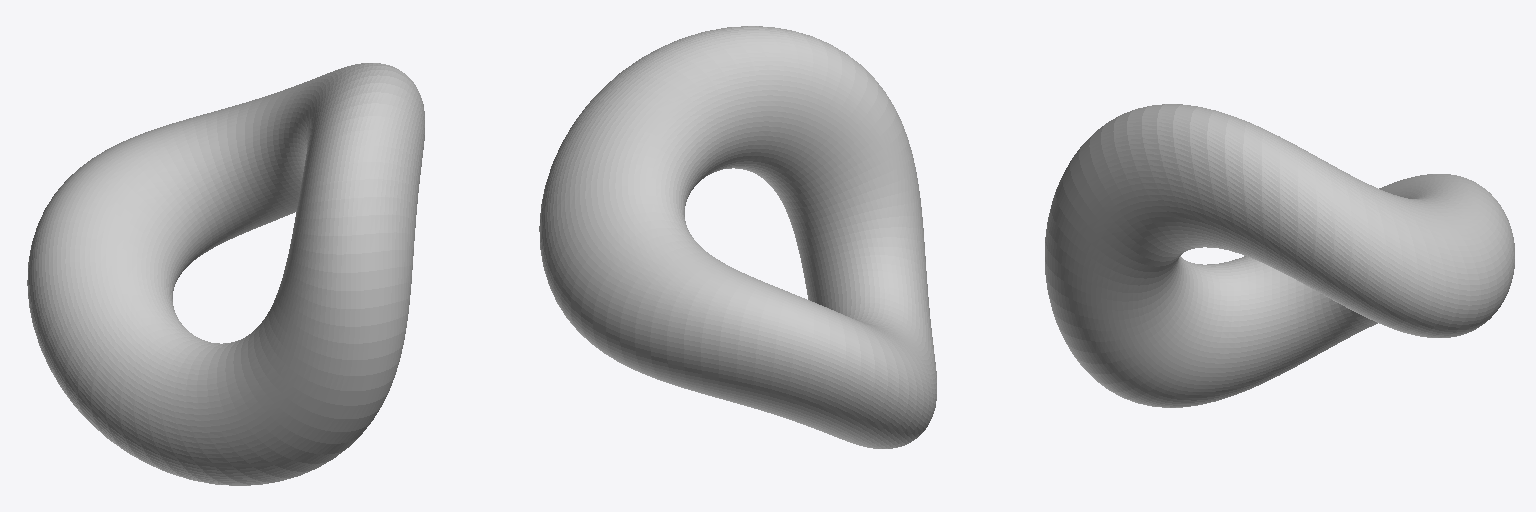
File: Torus-twist-fliped-normals.obj
3 renders of one model, left to right at view 1: azimuth 30°, elevation 25°; view 2: azimuth 150°, elevation 25°; view 3: azimuth 270°, elevation 25°, orthographic.
Visible parts, largest first — view 1: 000_Torus; view 2: 000_Torus; view 3: 000_Torus.
Boxes of the visible parts, x1,y1,x2,y2 form: 000_Torus: [27, 63, 424, 485]; 000_Torus: [539, 26, 936, 448]; 000_Torus: [1045, 104, 1514, 407].
Size of the model in its own units: 241 by 234 by 280.